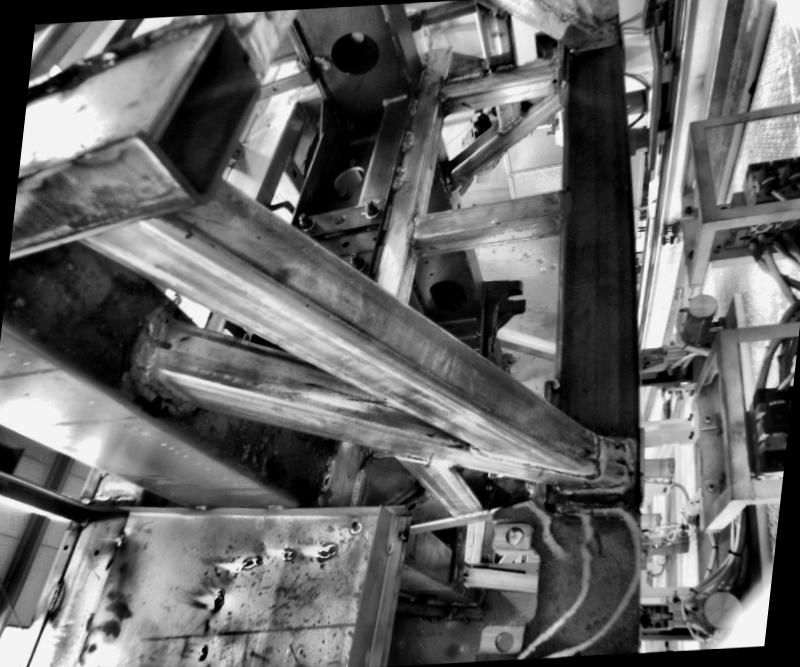bolt: (358, 195, 379, 218), (294, 207, 316, 228), (345, 248, 366, 270)
bracket: (472, 270, 530, 360)
hole: (327, 26, 379, 74), (425, 274, 472, 312), (330, 164, 365, 191), (492, 629, 516, 650), (148, 334, 174, 351), (502, 526, 526, 544), (330, 210, 346, 223), (90, 546, 100, 556), (614, 456, 624, 465), (340, 237, 349, 245), (62, 540, 68, 550), (413, 242, 423, 248), (550, 75, 558, 82), (423, 258, 430, 263), (428, 162, 431, 168), (428, 269, 432, 273), (457, 202, 458, 206)
welding: (138, 312, 172, 379), (548, 479, 641, 496), (624, 438, 640, 490), (46, 577, 66, 613), (590, 427, 603, 478), (554, 188, 571, 215), (390, 162, 405, 184), (188, 501, 210, 514), (407, 213, 416, 242), (399, 128, 412, 148), (261, 501, 287, 510), (408, 96, 418, 114), (116, 532, 126, 544)
